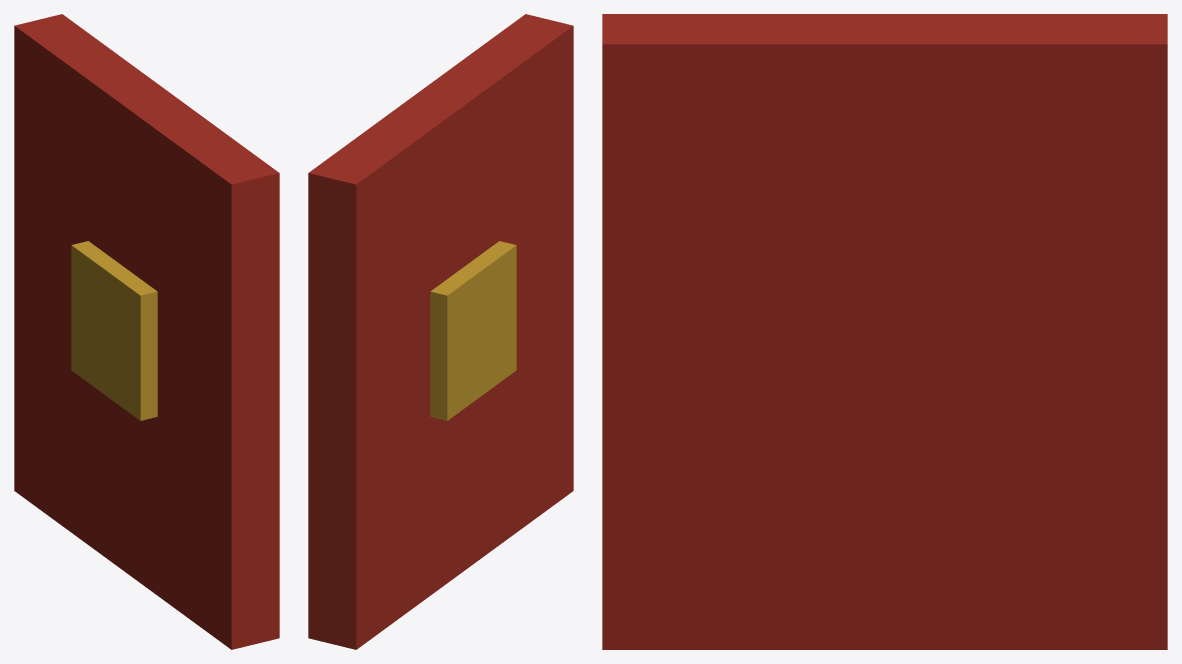
The model's file is knight_shield.glb.
3 renders of one model, left to right at view 1: azimuth 30°, elevation 25°; view 2: azimuth 150°, elevation 25°; view 3: azimuth 270°, elevation 25°, orthographic. The views are drawn at different scales.
Parts seen in each view (by area): view 1: knight_shield; view 2: knight_shield; view 3: knight_shield.
Part boxes in pixels (x1,y1,x2,y2): knight_shield: (14, 14, 279, 649); knight_shield: (308, 14, 573, 649); knight_shield: (602, 14, 1167, 649).
Size of the model in its own units: 0.019 by 0.13 by 0.11.
